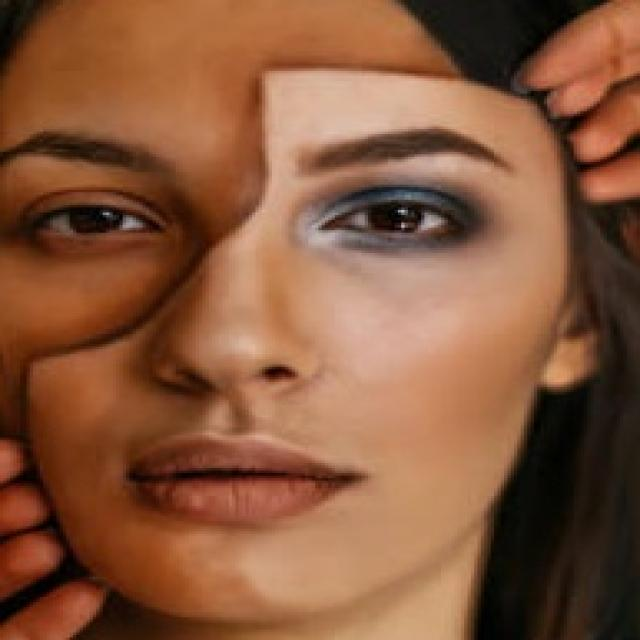Anxiety: (3, 0, 549, 624)
